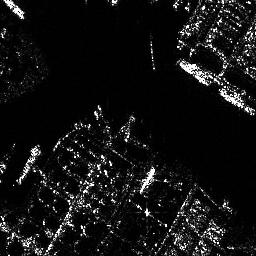ship: (218, 89, 256, 117), (15, 145, 42, 184), (177, 63, 211, 87), (5, 1, 26, 22)
